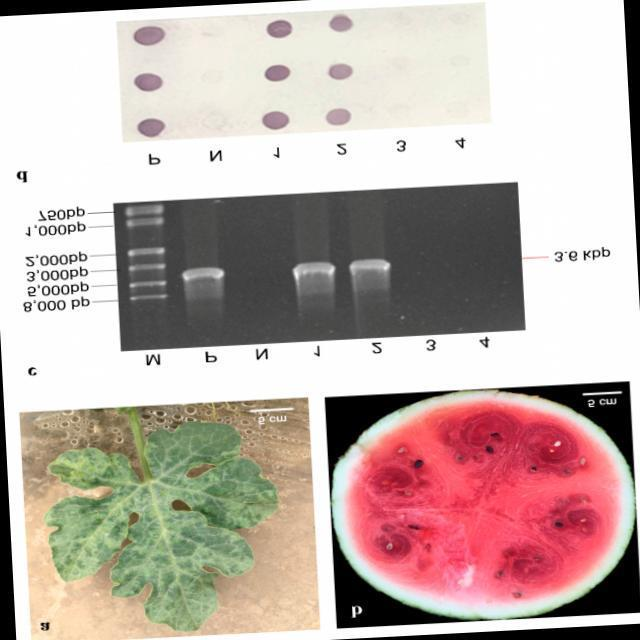Mosaic Virus: (37, 408, 289, 634)
